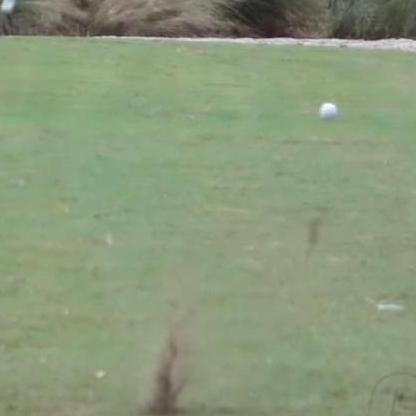golfball: (315, 100, 335, 120)
